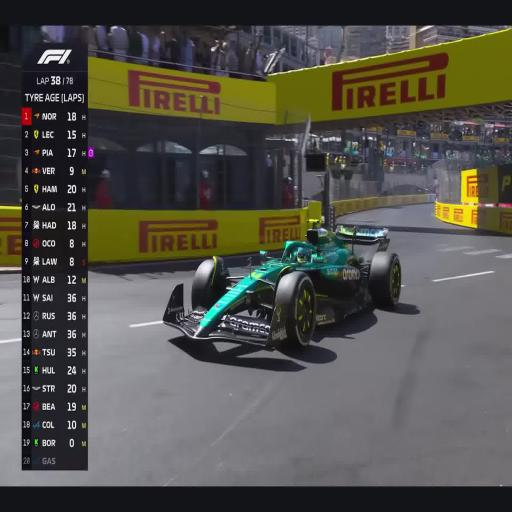f1_car: (163, 224, 401, 348), (310, 221, 310, 221)
